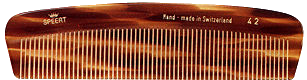grozi_17: (5, 2, 302, 80)
